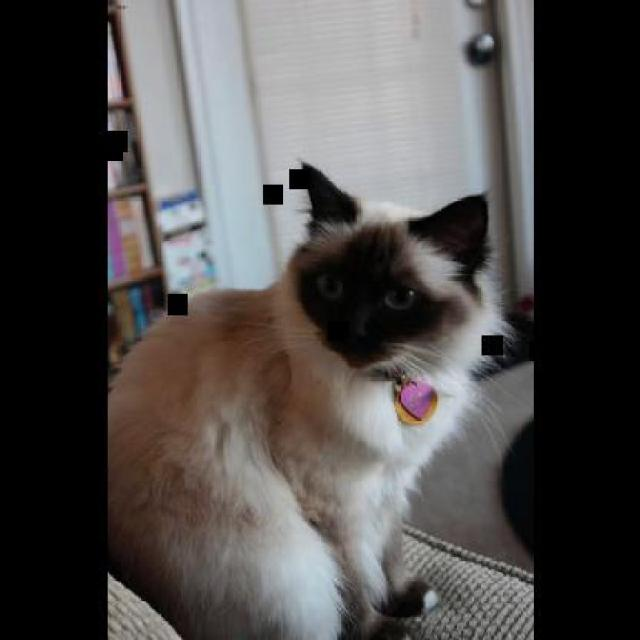unauthorized: (106, 158, 519, 638)
